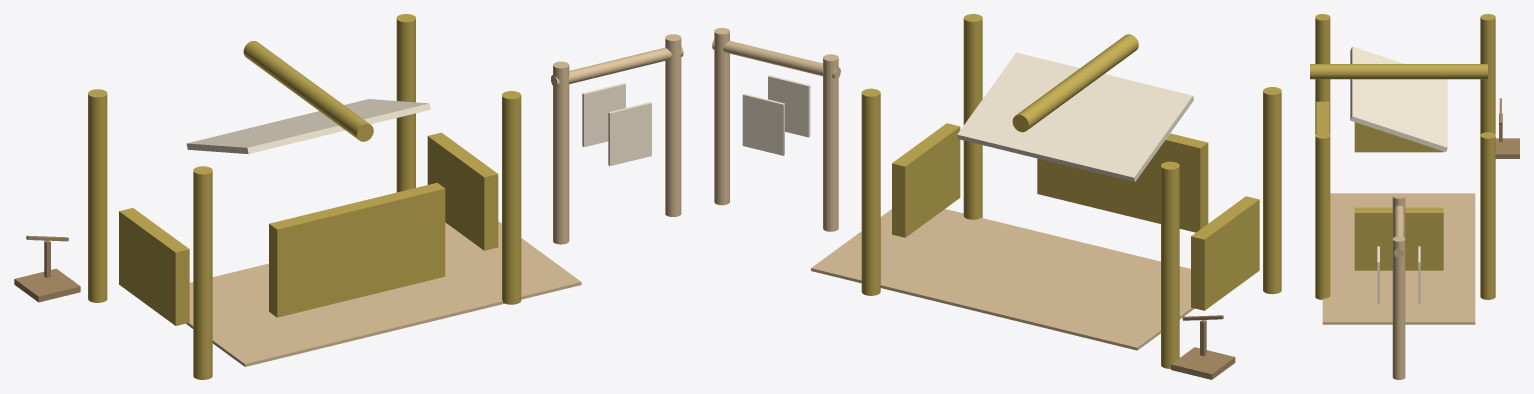
The model's file is trappers_hut.glb.
3 renders of one model, left to right at view 1: azimuth 30°, elevation 25°; view 2: azimuth 150°, elevation 25°; view 3: azimuth 270°, elevation 25°, orthographic. The views are drawn at different scales.
Parts seen in each view (by area): view 1: Ground, BackWall, LeftWall, RightWall, RoofHide, Pole_-0.55_-0.3, Pole_-0.55_0.35, Pole_0.55_-0.3, Pole_0.55_0.35, RidgePole, RackPole_0.9, RackPole_1.3 (+4 smaller); view 2: Ground, RoofHide, BackWall, LeftWall, RightWall, Pole_0.55_0.35, Pole_-0.55_-0.3, Pole_-0.55_0.35, Pole_0.55_-0.3, RidgePole, RackPole_0.9, RackPole_1.3 (+4 smaller); view 3: Ground, RoofHide, RightWall, RidgePole, Pole_0.55_0.35, Pole_0.55_-0.3, RackPole_1.3, Pole_-0.55_0.35, LeftWall, Pole_-0.55_-0.3, TrapBase, BackWall (+2 smaller).
Boxes of the visible parts, x1,y1,x2,y2 form: Ground: (186, 221, 581, 366); BackWall: (269, 182, 445, 317); LeftWall: (119, 208, 189, 325); RightWall: (427, 132, 498, 250); RoofHide: (186, 99, 430, 153); Pole_-0.55_-0.3: (193, 166, 212, 379); Pole_-0.55_0.35: (88, 89, 107, 302); Pole_0.55_-0.3: (502, 91, 521, 304); Pole_0.55_0.35: (396, 14, 415, 192); RidgePole: (243, 41, 373, 141); RackPole_0.9: (553, 61, 569, 244); RackPole_1.3: (665, 34, 681, 216); Ground: (811, 209, 1194, 350); RoofHide: (957, 52, 1193, 182); BackWall: (1037, 133, 1208, 232); LeftWall: (1191, 196, 1259, 310); RightWall: (892, 123, 960, 237); Pole_0.55_0.35: (861, 88, 880, 295); Pole_-0.55_-0.3: (1263, 87, 1281, 294); Pole_-0.55_0.35: (1161, 161, 1179, 368); Pole_0.55_-0.3: (963, 14, 982, 219); RidgePole: (1012, 34, 1138, 132); RackPole_0.9: (823, 54, 838, 231); RackPole_1.3: (714, 28, 729, 205); Ground: (1322, 193, 1475, 324); RoofHide: (1350, 46, 1447, 151); RightWall: (1354, 207, 1443, 270); RidgePole: (1310, 64, 1487, 79); Pole_0.55_0.35: (1480, 132, 1495, 299); Pole_0.55_-0.3: (1315, 132, 1330, 299); RackPole_1.3: (1392, 236, 1405, 379); Pole_-0.55_0.35: (1480, 14, 1495, 134); LeftWall: (1354, 122, 1443, 152); Pole_-0.55_-0.3: (1315, 14, 1330, 134); TrapBase: (1495, 138, 1519, 158); BackWall: (1316, 101, 1329, 133).
Bounding box in the file's own units: 2.1 × 0.755 × 0.825.
